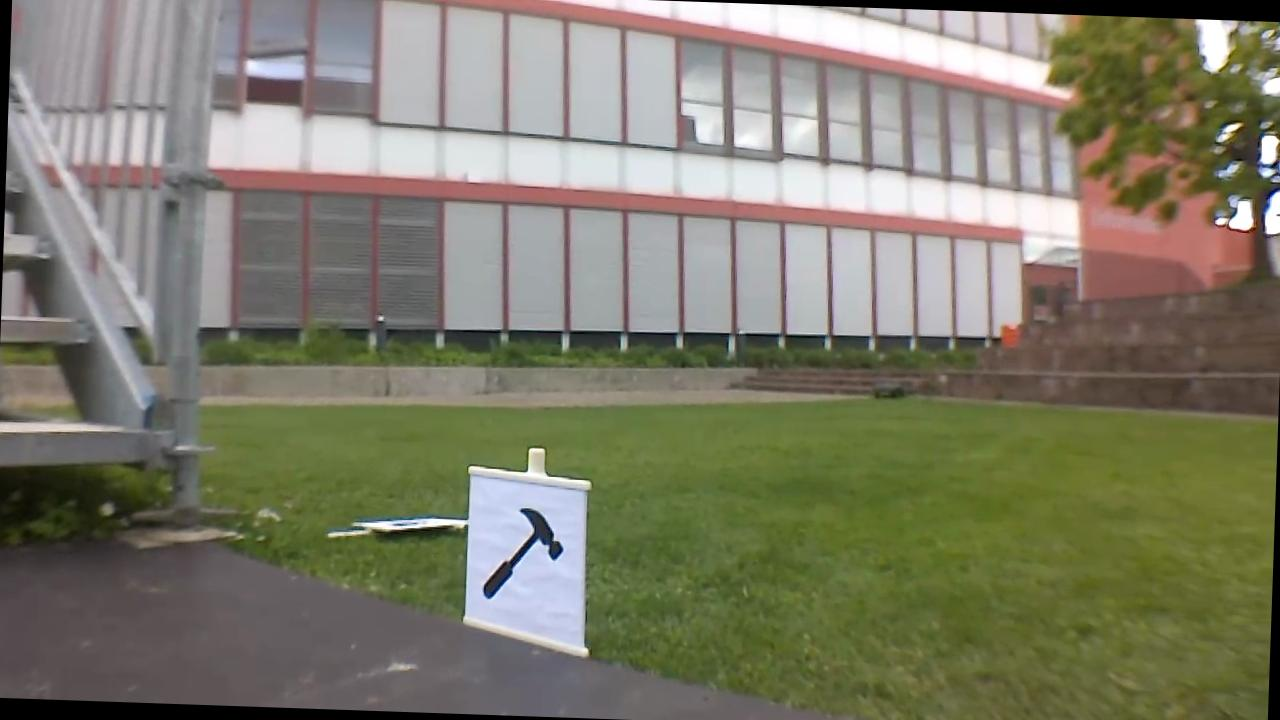hammer: (474, 500, 571, 609)
